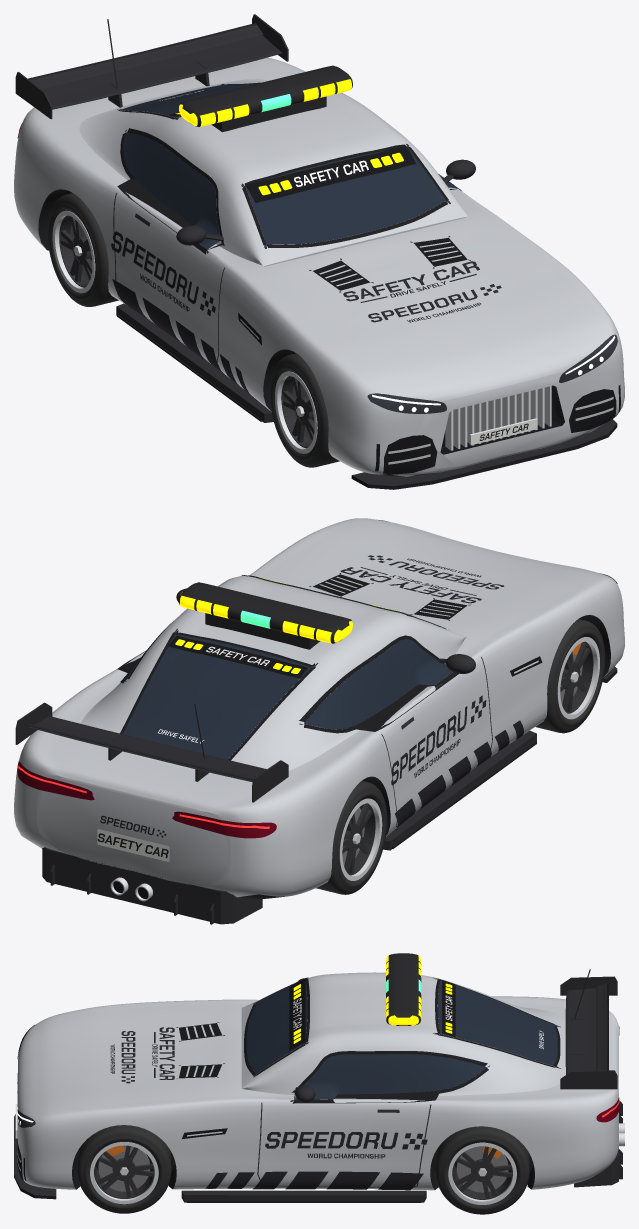
Rendered from safety_car.glb.
3 views of the same model, one above another, from view 1: azimuth 30°, elevation 25°; view 2: azimuth 150°, elevation 25°; view 3: azimuth 270°, elevation 25° (orthographic). The views are drawn at different scales.
Visible parts, largest first — view 1: Body, Wheel_RR, Wheel_FR; view 2: Body, Wheel_FR, Wheel_RR; view 3: Body, Wheel_FL, Wheel_RL.
Boxes of the visible parts, box(x1,y1,x2,y2) form: Body: box(14, 14, 624, 489); Wheel_RR: box(47, 193, 118, 306); Wheel_FR: box(269, 353, 339, 467); Body: box(14, 518, 624, 924); Wheel_FR: box(535, 619, 605, 733); Wheel_RR: box(316, 780, 387, 894); Body: box(14, 953, 624, 1202); Wheel_FL: box(77, 1125, 171, 1213); Wheel_RL: box(435, 1126, 529, 1214).
Size of the model in its own units: 2.05 by 1.43 by 4.48.
